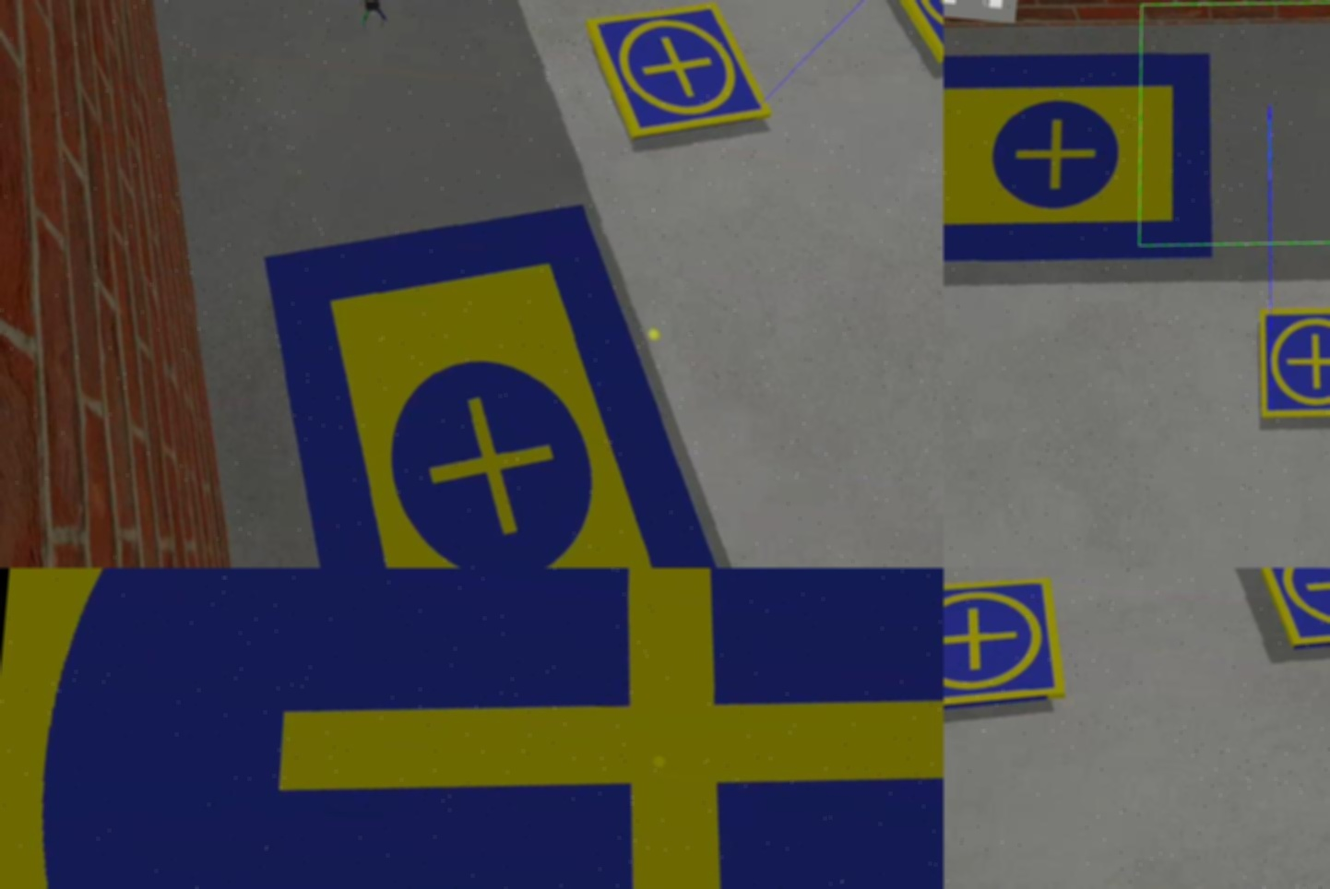large_base: (1, 568, 944, 889), (219, 176, 812, 568), (944, 25, 1234, 293)
small_base: (577, 1, 778, 151), (944, 568, 1079, 735), (1247, 297, 1330, 433), (1243, 568, 1330, 659), (872, 1, 944, 71)
